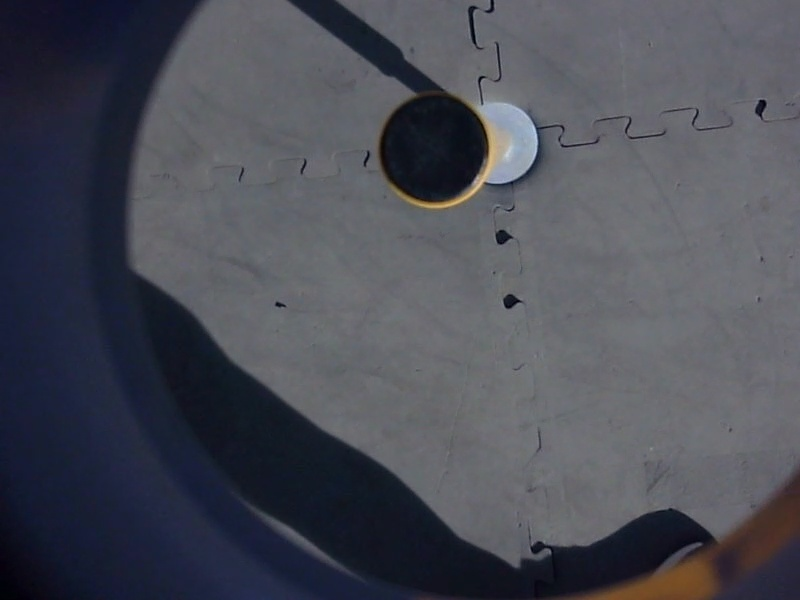tip: (370, 85, 497, 216)
